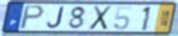1: (141, 5, 153, 31)
5: (113, 6, 134, 31)
8: (68, 5, 87, 30)
J: (46, 6, 65, 30)
P: (18, 4, 46, 31)
X: (87, 5, 113, 31)
